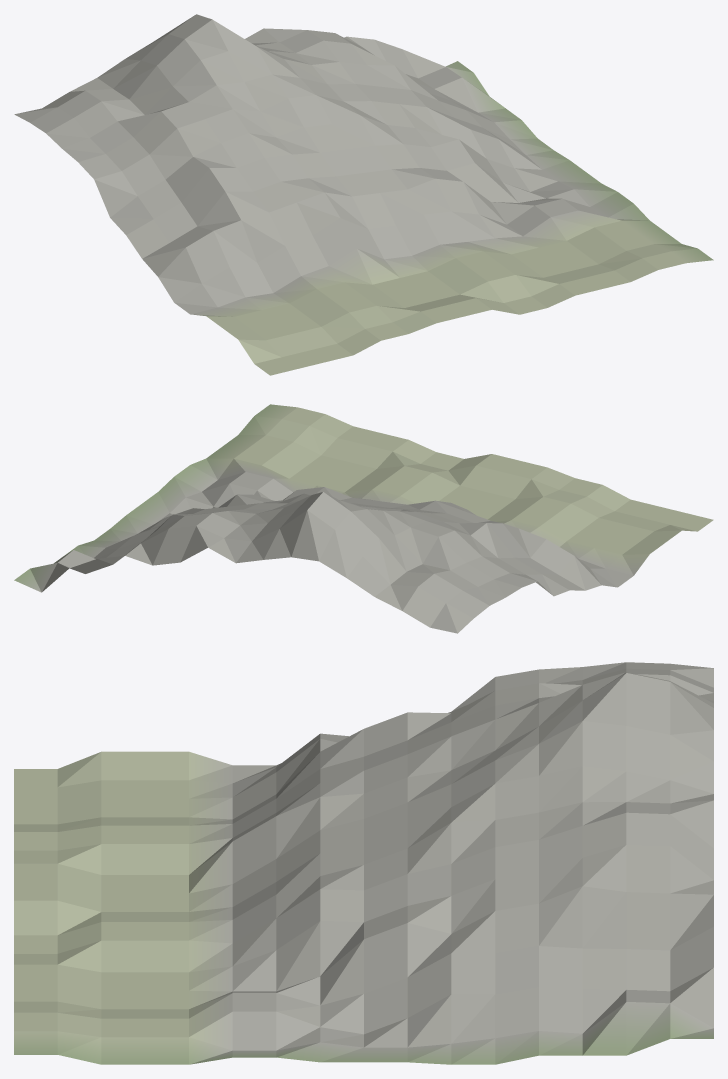
The picture shows the model from 3 angles, top to bottom: view 1: azimuth 30°, elevation 25°; view 2: azimuth 150°, elevation 25°; view 3: azimuth 270°, elevation 25°; orthographic projection. The views are drawn at different scales.
Bounding box in the file's own units: 32 × 10.78 × 32.
